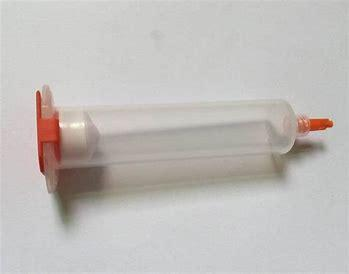Syringe: (30, 78, 344, 195)
